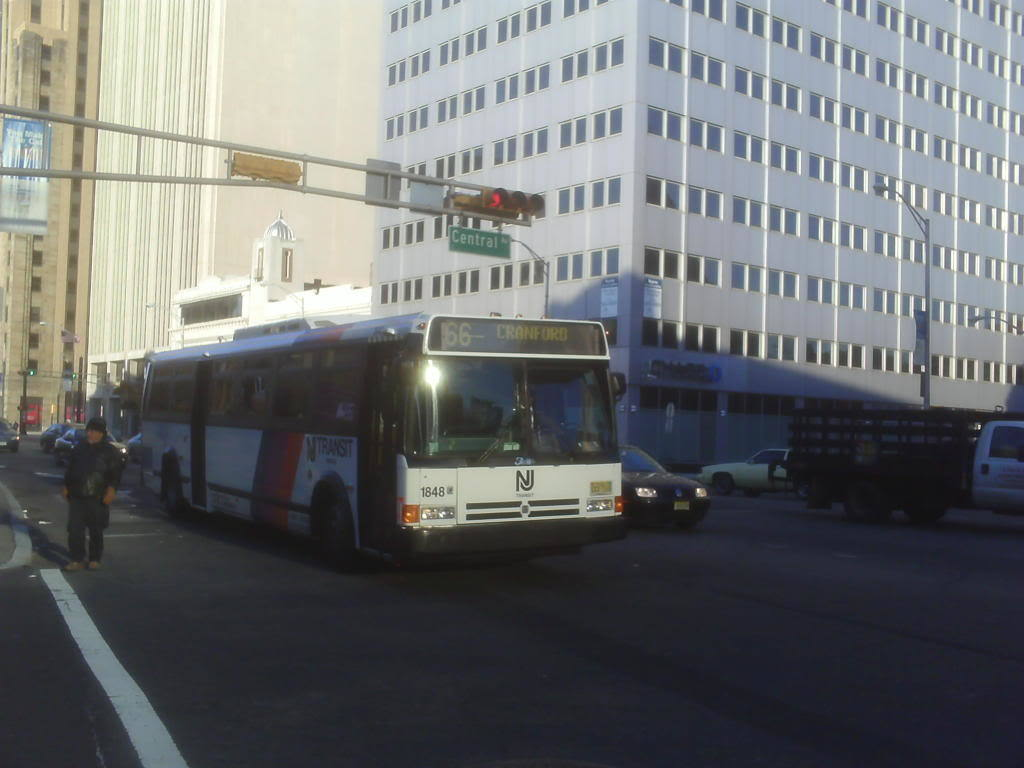mobil: (619, 439, 710, 533)
